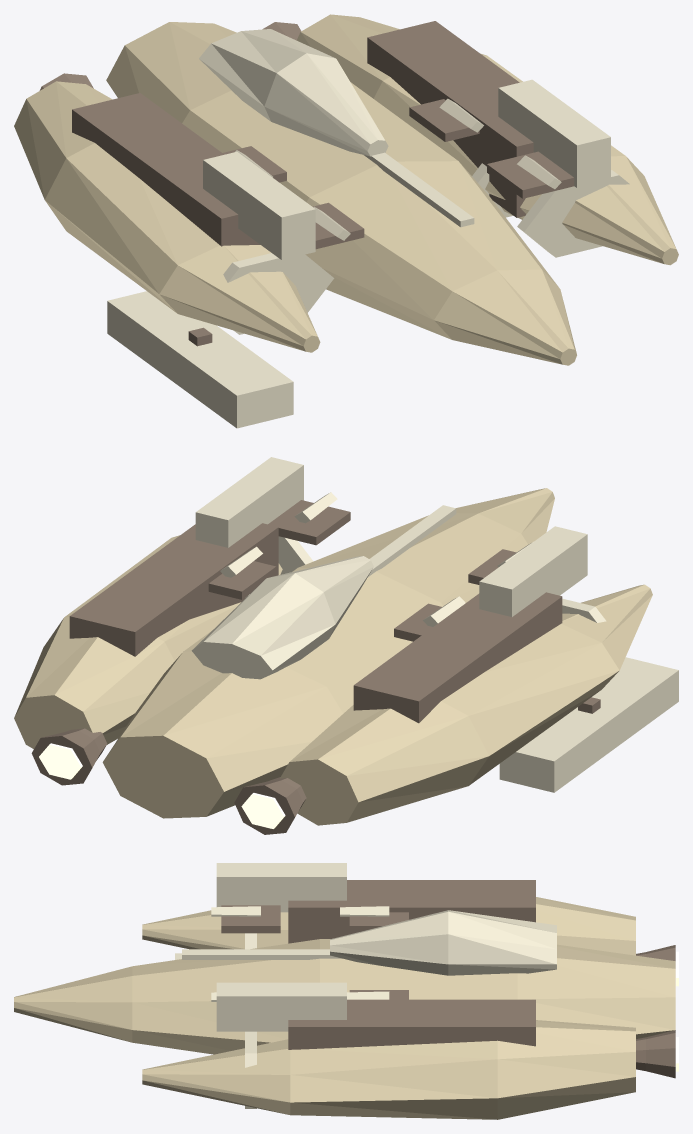
The picture shows the model from 3 angles, top to bottom: view 1: azimuth 30°, elevation 25°; view 2: azimuth 150°, elevation 25°; view 3: azimuth 270°, elevation 25°; orthographic projection. The views are drawn at different scales.
Bounding box in the file's own units: 14.25 × 5.54 × 20.42.
